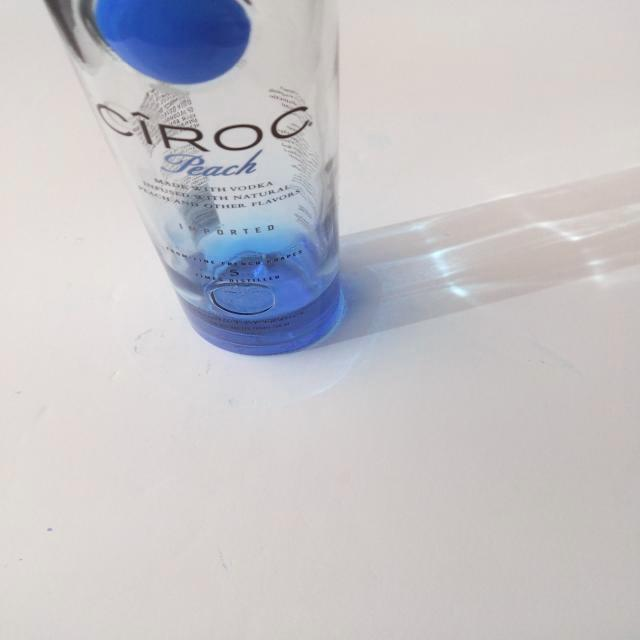glass: (35, 0, 351, 363)
